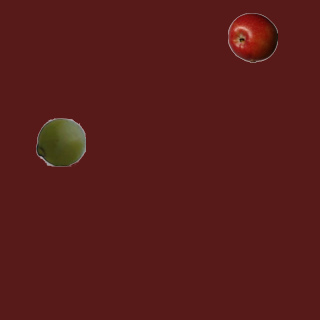Apple Braeburn: (227, 12, 277, 62)
Grape White 4: (35, 116, 85, 166)
